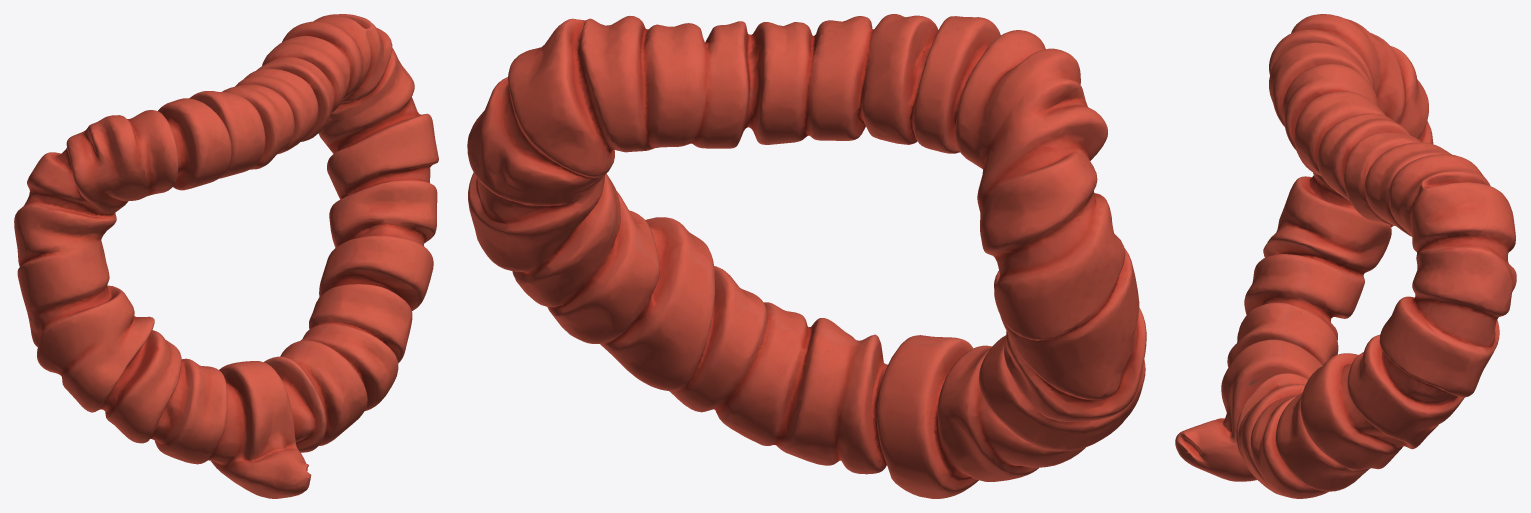
Rendered from Env_LargeIntestineTube.glb.
3 views of the same model, side by side, from view 1: azimuth 30°, elevation 25°; view 2: azimuth 150°, elevation 25°; view 3: azimuth 270°, elevation 25° (orthographic). The views are drawn at different scales.
Size of the model in its own units: 1.9 by 1.56 by 1.19.
Materials: 1 (1 with a texture image).
